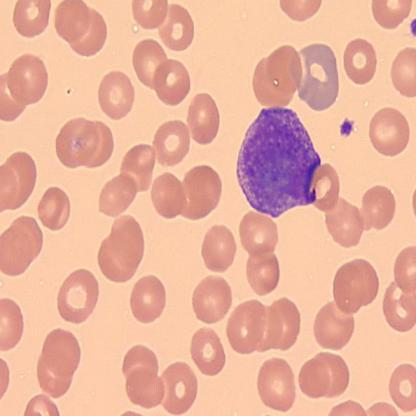Promyelocyte: (236, 103, 322, 217)
